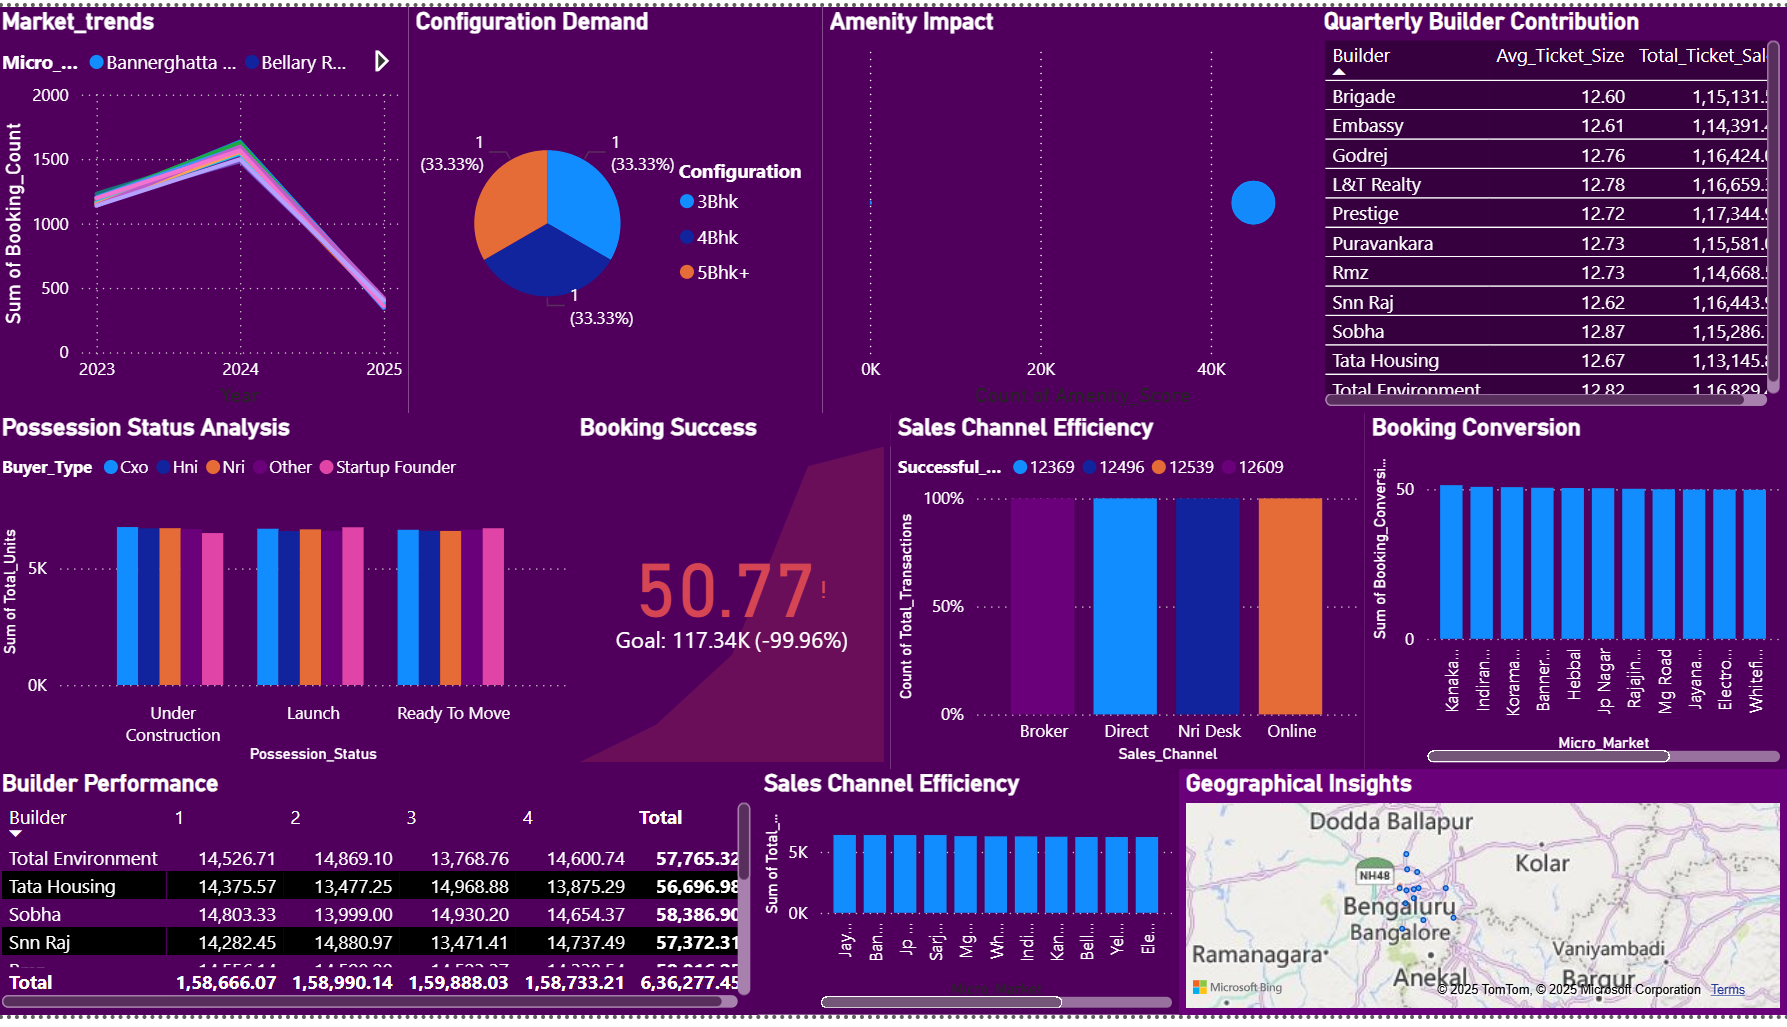

This screenshot's page, from the dashboard's own definition file:
{"tool":"powerbi","page":{"name":"Page 1","canvas":[1280,720],"ordinal":0},"visuals":[{"type":"lineChart","title":"Market_trends","fields":{"Category":["Query1.Purchase_Quarter.Variation.Date Hierarchy.Year","Query1.Purchase_Quarter.Variation.Date Hierarchy.Quarter","Query1.Purchase_Quarter.Variation.Date Hierarchy.Month","Query1.Purchase_Quarter.Variation.Date Hierarchy.Day"],"Y":["Sum(Query1.Booking_Count)"],"Series":["Query1.Micro_Market"]},"box":[0,0,295.7,290],"z":0},{"type":"tableEx","title":"Quarterly Builder Contribution","fields":{"Values":["Query2.Builder","Query2.Avg_Ticket_Size","Query2.Total_Ticket_Sales"]},"box":[944.3,0,335.7,290],"z":1000},{"type":"scatterChart","title":"Amenity Impact","fields":{"Category":["Query3.Booking_Conversion_Rate"],"X":["CountNonNull(Query3.Amenity_Score)"],"Size":["CountNonNull(Query3.Total_Projects)"]},"box":[591.4,0,352.9,290],"z":2000},{"type":"clusteredColumnChart","title":"Booking Conversion","fields":{"Category":["Query4.Micro_Market"],"Y":["Sum(Query4.Booking_Conversion_Rate)"]},"box":[978.6,290,301.4,254.3],"z":3000},{"type":"pieChart","title":" Configuration Demand","fields":{"Category":["Query5.Configuration"],"Y":["CountNonNull(Query5.Booking_Count)"]},"box":[295.7,0,295.7,290],"z":4000},{"type":"hundredPercentStackedColumnChart","title":"Sales Channel Efficiency","fields":{"Category":["Query6.Sales_Channel"],"Y":["CountNonNull(Query6.Total_Transactions)"],"Series":["Query6.Successful_Bookings"]},"box":[640,290,338.6,254.3],"z":5000},{"type":"pivotTable","title":"Builder Performance","fields":{"Values":["Sum(Query7.Total_Ticket_Sales_Cr)"],"Columns":["Query7.Quarter_Number"],"Rows":["Query7.Builder"]},"box":[0,544.3,544.3,175.7],"z":6000},{"type":"clusteredColumnChart","title":"Possession Status Analysis","fields":{"Category":["Query8.Possession_Status"],"Y":["Sum(Query8.Total_Units)"],"Series":["Query8.Buyer_Type"]},"box":[0,290,412.9,254.3],"z":7000},{"type":"columnChart","title":"Sales Channel Efficiency","fields":{"Category":["Query9.Micro_Market"],"Y":["Sum(Query9.Total_Units)"]},"box":[544.3,544.3,301.4,175.7],"z":8000},{"type":"map","title":"Geographical Insights","fields":{"Category":["Query9.Micro_Market"]},"box":[845.7,544.3,434.3,175.7],"z":9000},{"type":"kpi","title":"Booking Success","fields":{"Indicator":["Sum(Query10.Booking_Success_Rate)"],"TrendLine":["Query10.Successful_Bookings"],"Goal":["Sum(Query10.Total_Revenue_Cr)"]},"box":[412.9,290,227.1,254.3],"z":10000}]}

Visuals, with their boxes in screenshot pixels (x1, y1, x2, y2), scaled from the page's 1280x720 canvas onto the 1787x1027 screenshot:
"Market_trends" lineChart: rect(0, 0, 413, 414)
"Quarterly Builder Contribution" tableEx: rect(1318, 0, 1786, 414)
"Amenity Impact" scatterChart: rect(826, 0, 1318, 414)
"Booking Conversion" clusteredColumnChart: rect(1366, 414, 1786, 776)
" Configuration Demand" pieChart: rect(413, 0, 826, 414)
"Sales Channel Efficiency" hundredPercentStackedColumnChart: rect(894, 414, 1366, 776)
"Builder Performance" pivotTable: rect(0, 776, 760, 1026)
"Possession Status Analysis" clusteredColumnChart: rect(0, 414, 576, 776)
"Sales Channel Efficiency" columnChart: rect(760, 776, 1181, 1026)
"Geographical Insights" map: rect(1181, 776, 1786, 1026)
"Booking Success" kpi: rect(576, 414, 894, 776)
